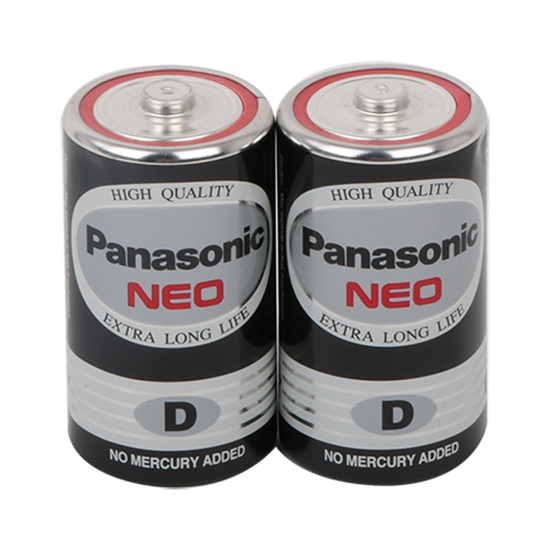Battery: (274, 59, 493, 488), (60, 62, 276, 491)
